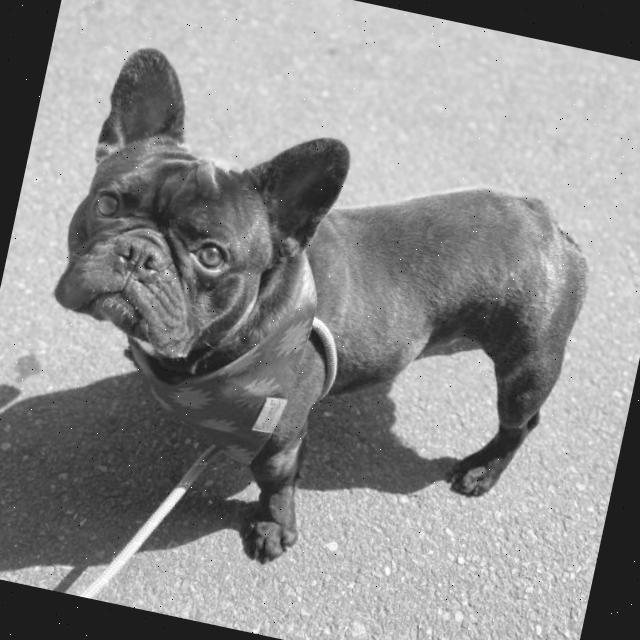french_bulldog_dog: (31, 35, 372, 402)
